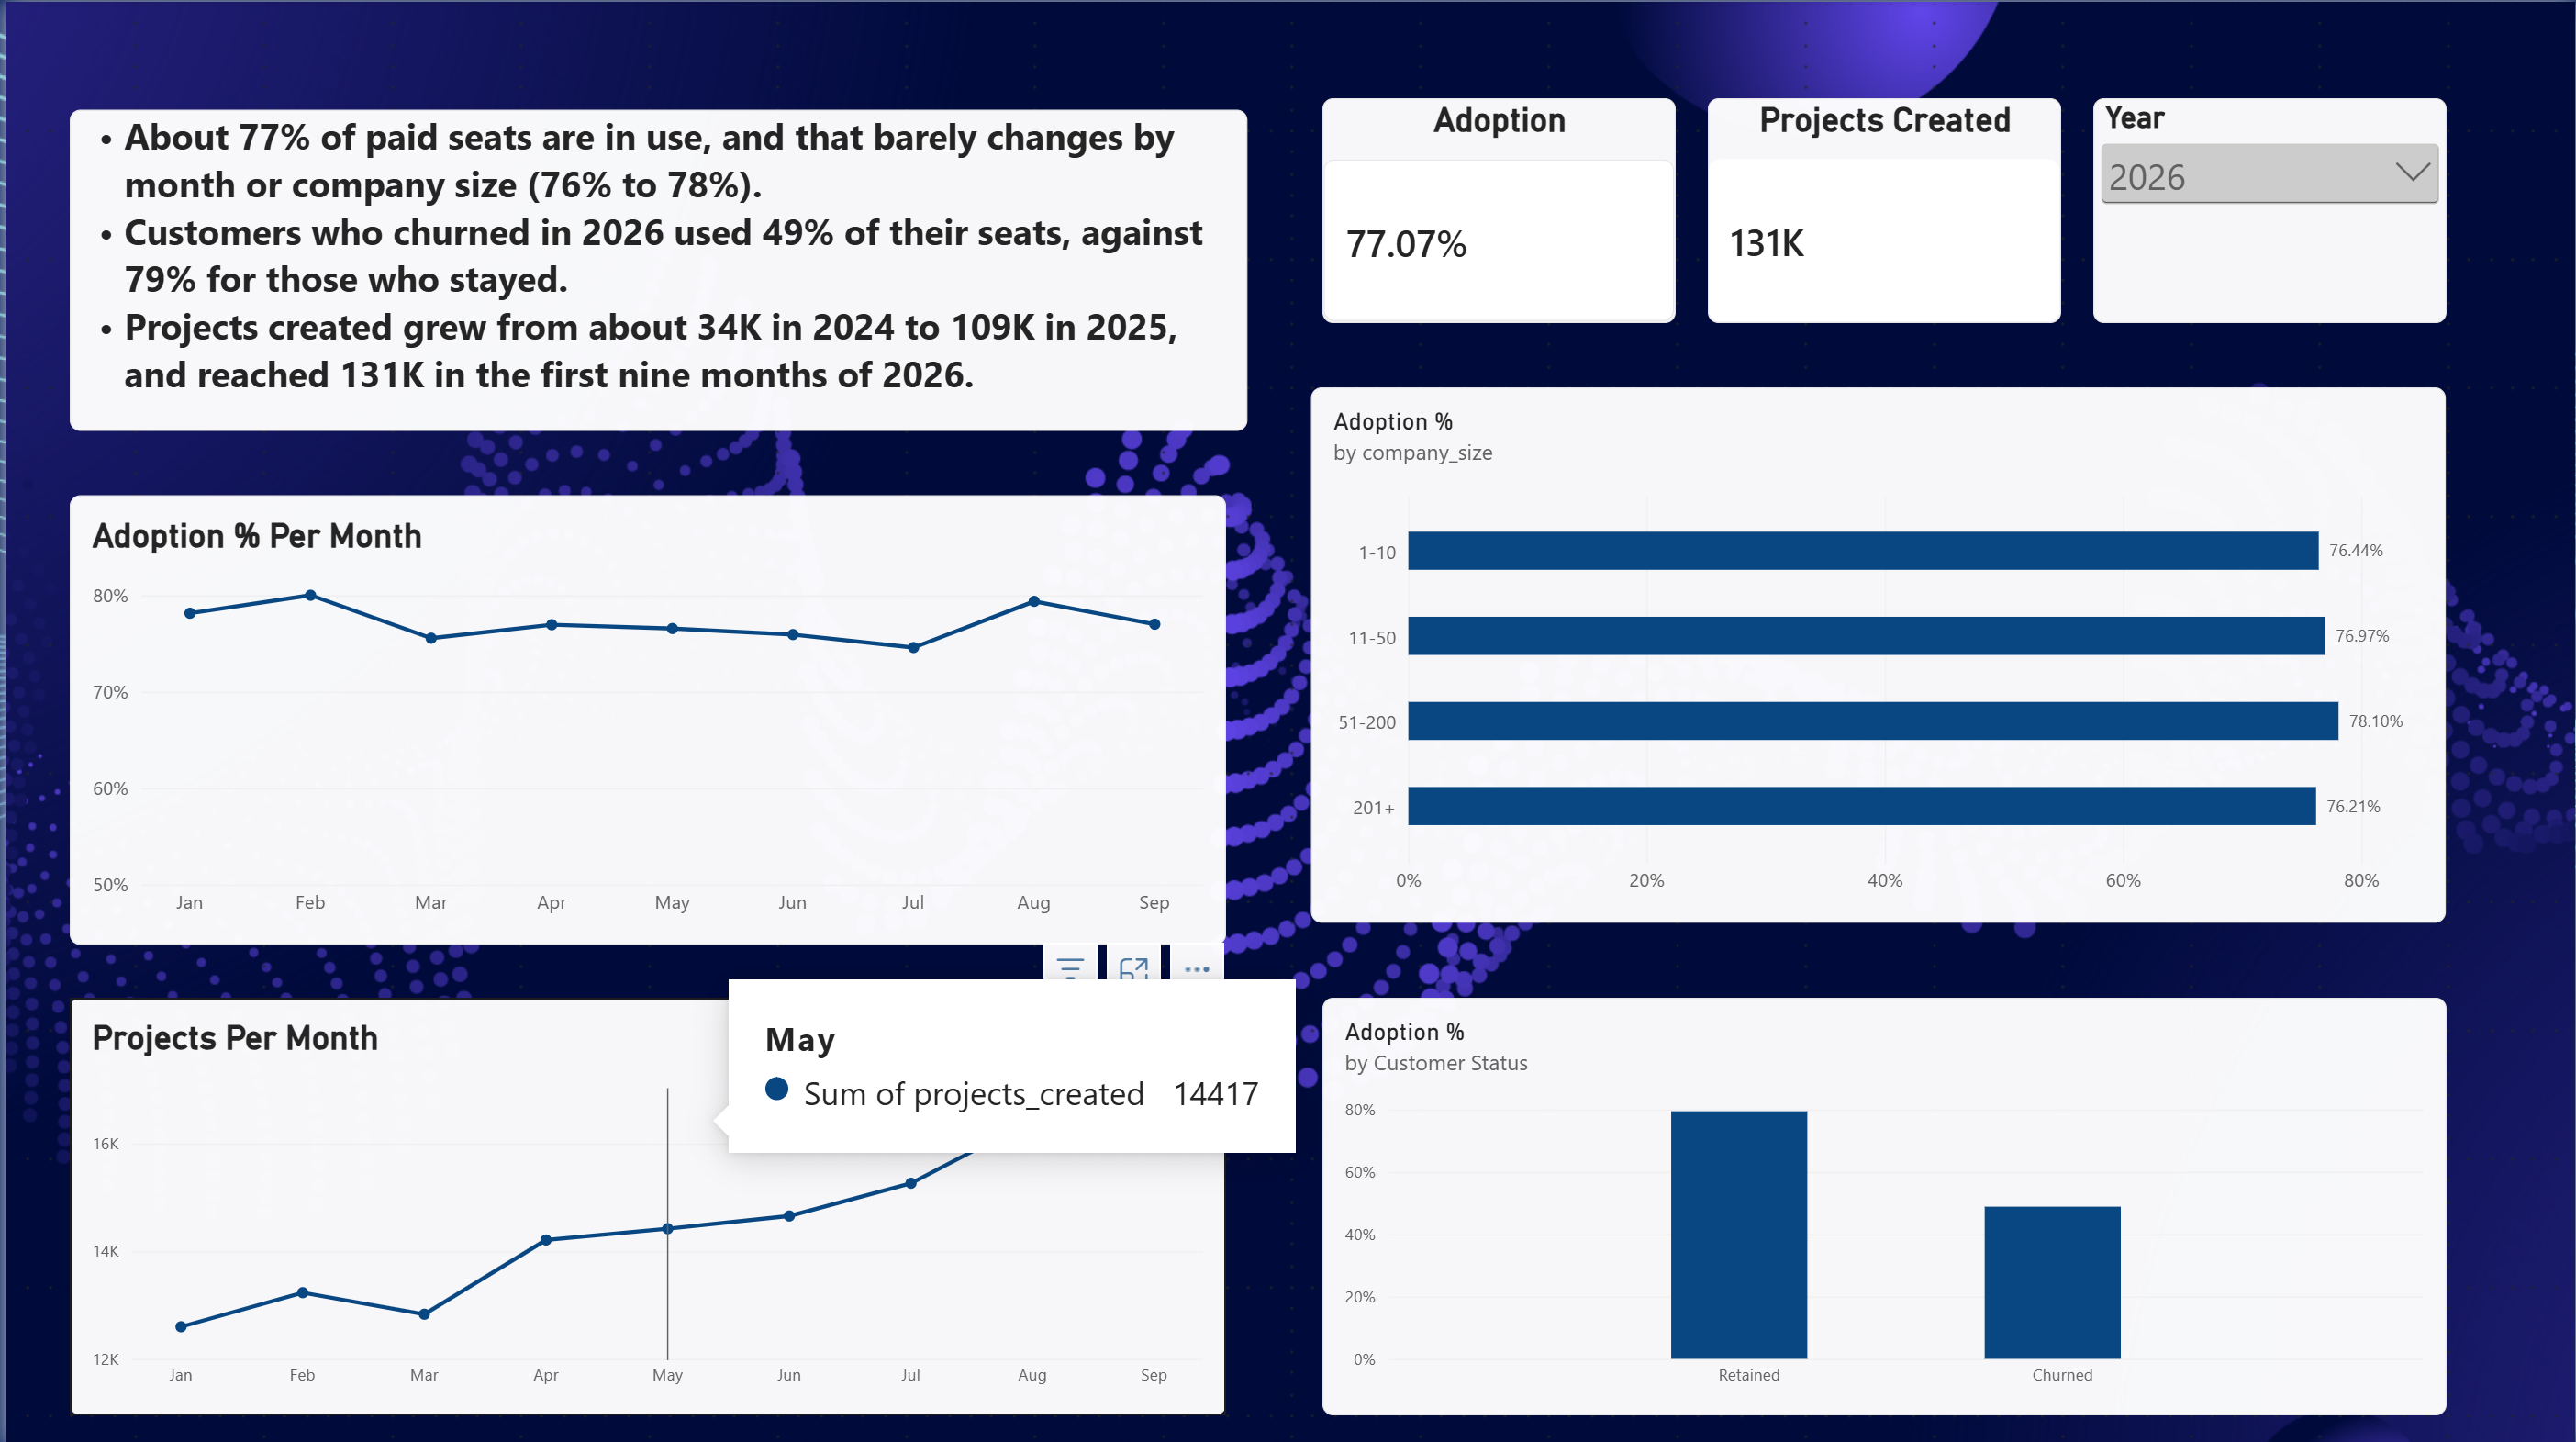

What the dashboard file says about the page in this screenshot:
{"tool":"powerbi","page":{"name":"Product Usage & Customer Health","canvas":[1920,1080],"ordinal":3},"visuals":[{"type":"lineChart","title":"Adoption % Per Month","fields":{"Y":["support_and_usage_measures.Adoption %"],"Category":["Date.Month"]},"box":[48,368,864,336],"z":0},{"type":"barChart","fields":{"Y":["support_and_usage_measures.Adoption %"],"Category":["customers.company_size"]},"box":[976,288,848,400],"z":1000},{"type":"lineChart","title":"Projects Per Month","fields":{"Y":["Sum(usage_monthly.projects_created)"],"Category":["Date.Month"]},"box":[48,744,864,312],"z":2000},{"type":"cardVisual","title":"Adoption","fields":{"Data":["support_and_usage_measures.Adoption %"]},"box":[984,72,264,168],"z":3000},{"type":"cardVisual","title":"Projects Created","fields":{"Data":["Sum(usage_monthly.projects_created)"]},"box":[1272,72,264,168],"z":4000},{"type":"slicer","fields":{"Values":["Date.Year"]},"box":[1560,72,264,168],"z":5000},{"type":"textbox","box":[48,80,880,240],"z":6000},{"type":"clusteredColumnChart","fields":{"Category":["customers.Customer Status"],"Y":["support_and_usage_measures.Adoption %"]},"box":[984,744,840,312],"z":7000}]}

Visuals, with their boxes in screenshot pixels (x1, y1, x2, y2), scaled from the page's 1920x1080 canvas onto the 2576x1442 screenshot:
"Adoption % Per Month" lineChart: pyautogui.locateOnScreen(64, 491, 1223, 940)
barChart - support_and_usage_measures.Adoption % x customers.company_size: pyautogui.locateOnScreen(1310, 385, 2448, 919)
"Projects Per Month" lineChart: pyautogui.locateOnScreen(64, 993, 1223, 1410)
"Adoption" cardVisual: pyautogui.locateOnScreen(1321, 96, 1675, 320)
"Projects Created" cardVisual: pyautogui.locateOnScreen(1707, 96, 2061, 320)
slicer - Date.Year: pyautogui.locateOnScreen(2093, 96, 2448, 320)
textbox: pyautogui.locateOnScreen(64, 106, 1245, 427)
clusteredColumnChart - customers.Customer Status x support_and_usage_measures.Adoption %: pyautogui.locateOnScreen(1321, 993, 2448, 1410)
